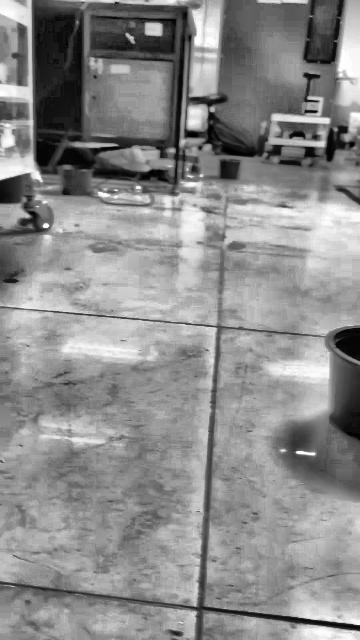pot: (325, 325, 360, 439)
